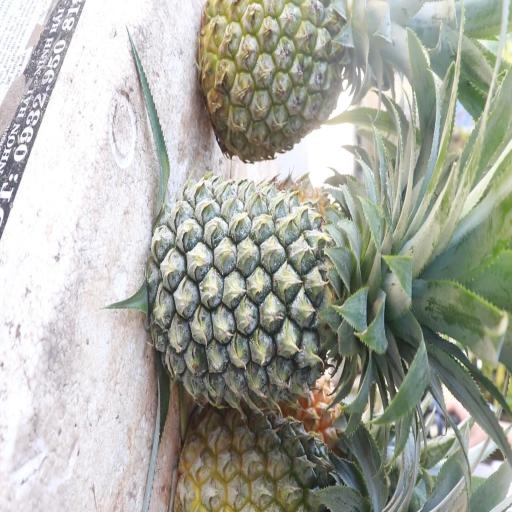------------------------------: (202, 0, 359, 161), (186, 398, 352, 512)
